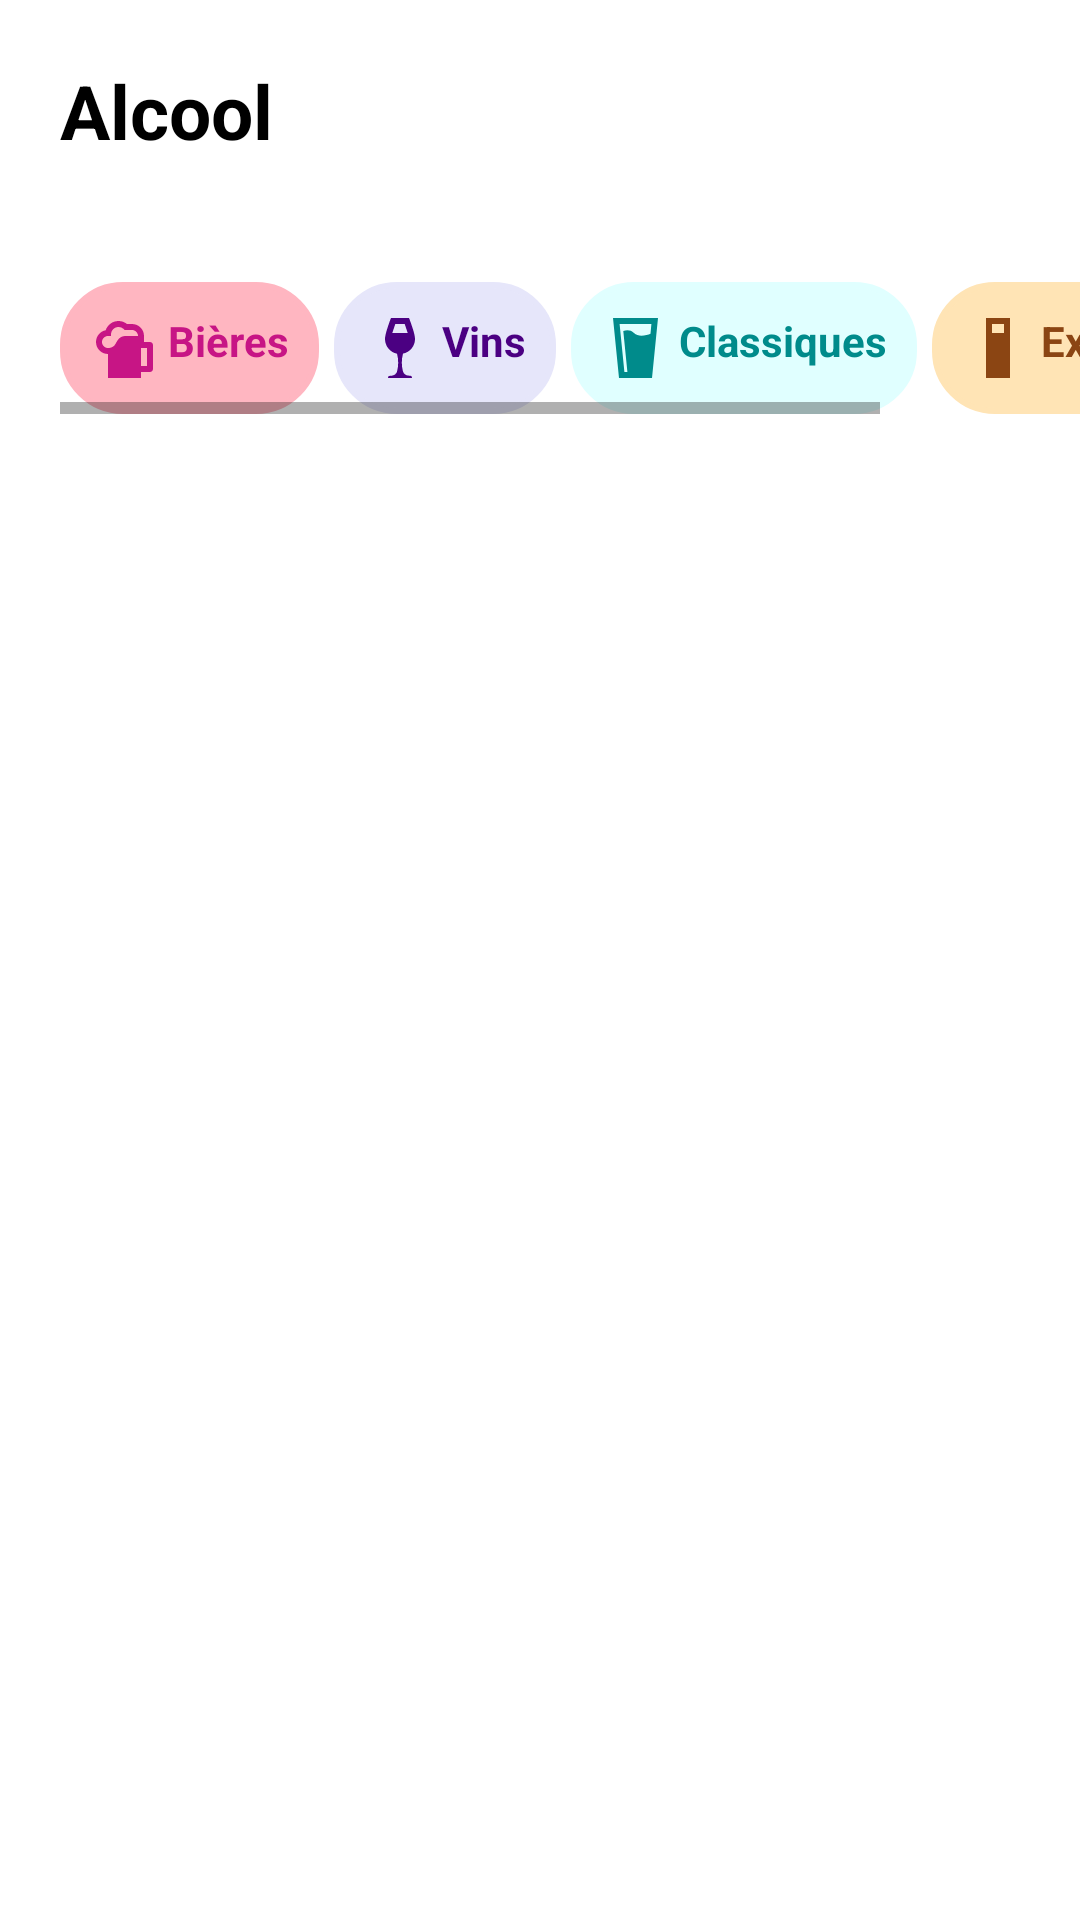

Icons on this 1080px x 1920px Android screen, each with the point to tap as point (x, y):
Image montrant un verre de vin: point (400, 348)
Image montrant une bière: point (124, 349)
